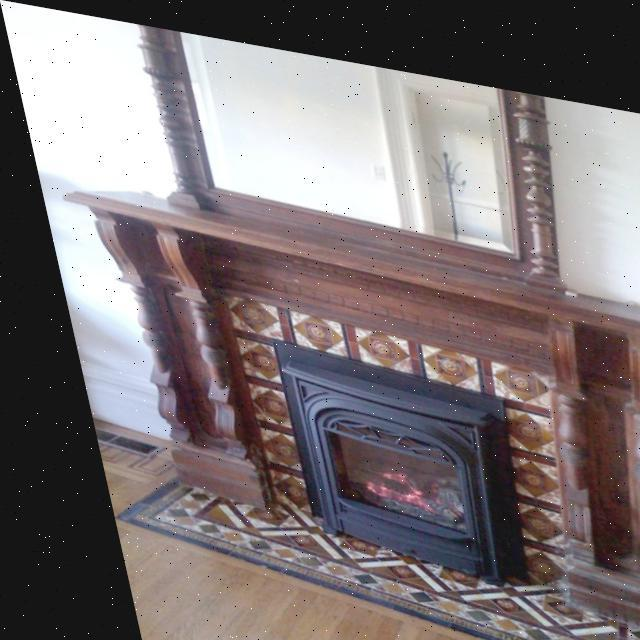Fire: (352, 459, 408, 497)
